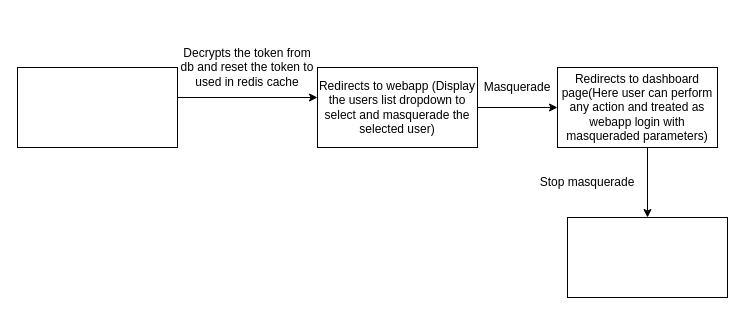
The diagram is 745 pixels wide and 315 high, and some of its shapes have lost their labels. Here are the shapes that lost their labels. From the top down, the centre of each, then its label:
At point (97, 107): "Masquerade link from cars".
At point (647, 257): "Redirects to Login page".
